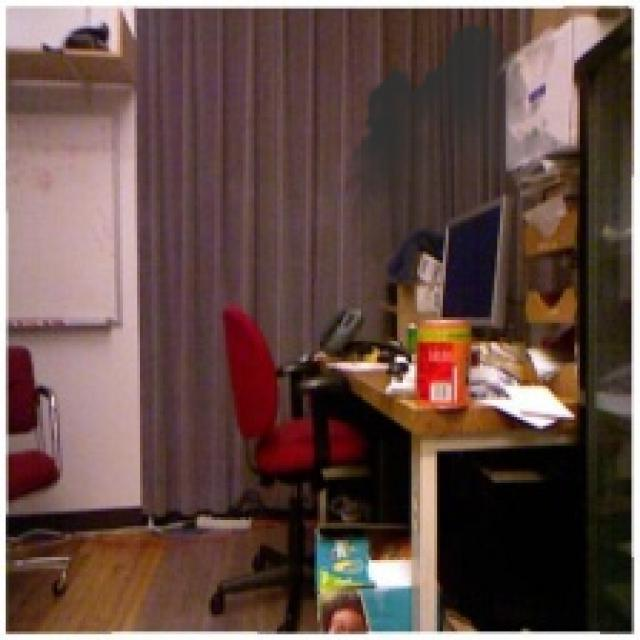smoke: (346, 11, 571, 286)
